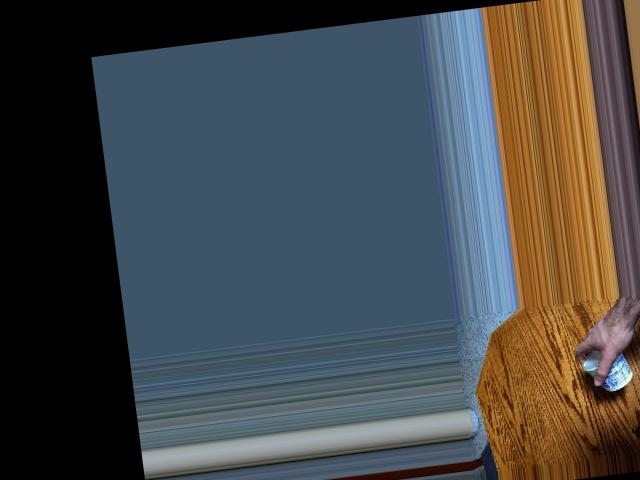cotage: (579, 347, 630, 393)
